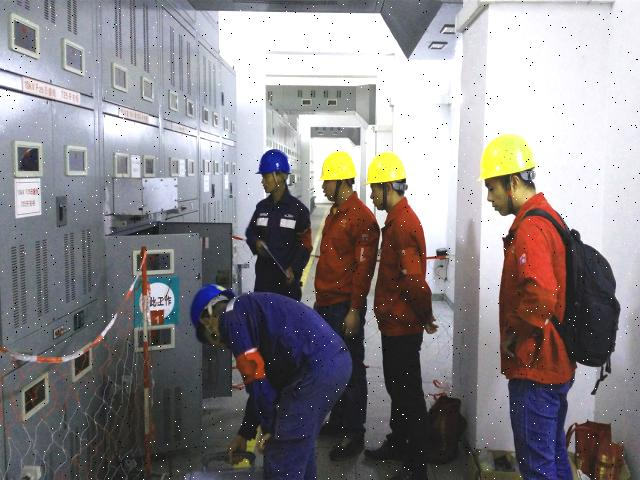Helmet: (474, 130, 539, 186), (184, 281, 237, 347), (362, 147, 409, 191), (314, 148, 361, 186), (253, 144, 293, 182)
